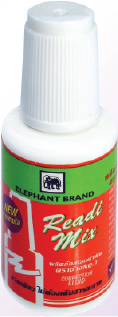Correction_fluid: (1, 1, 118, 317)
